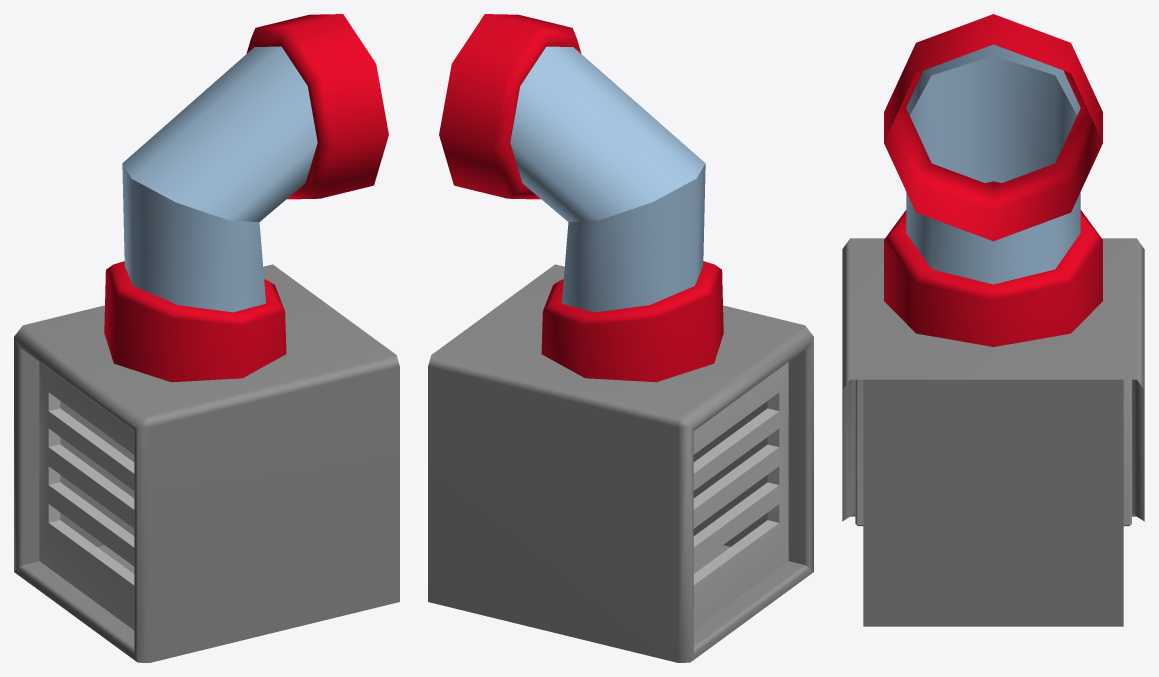
File: Teleport.fbx
3 renders of one model, left to right at view 1: azimuth 30°, elevation 25°; view 2: azimuth 150°, elevation 25°; view 3: azimuth 270°, elevation 25°, orthographic. The views are drawn at different scales.
Visible parts, largest first — view 1: Teleport; view 2: Teleport; view 3: Teleport.
Part boxes in pixels (left/top/right/bottom): Teleport: left=14, top=14, right=399, bottom=662; Teleport: left=428, top=14, right=813, bottom=662; Teleport: left=842, top=14, right=1144, bottom=626.
Bounding box in the file's own units: 141 × 271 × 119.
